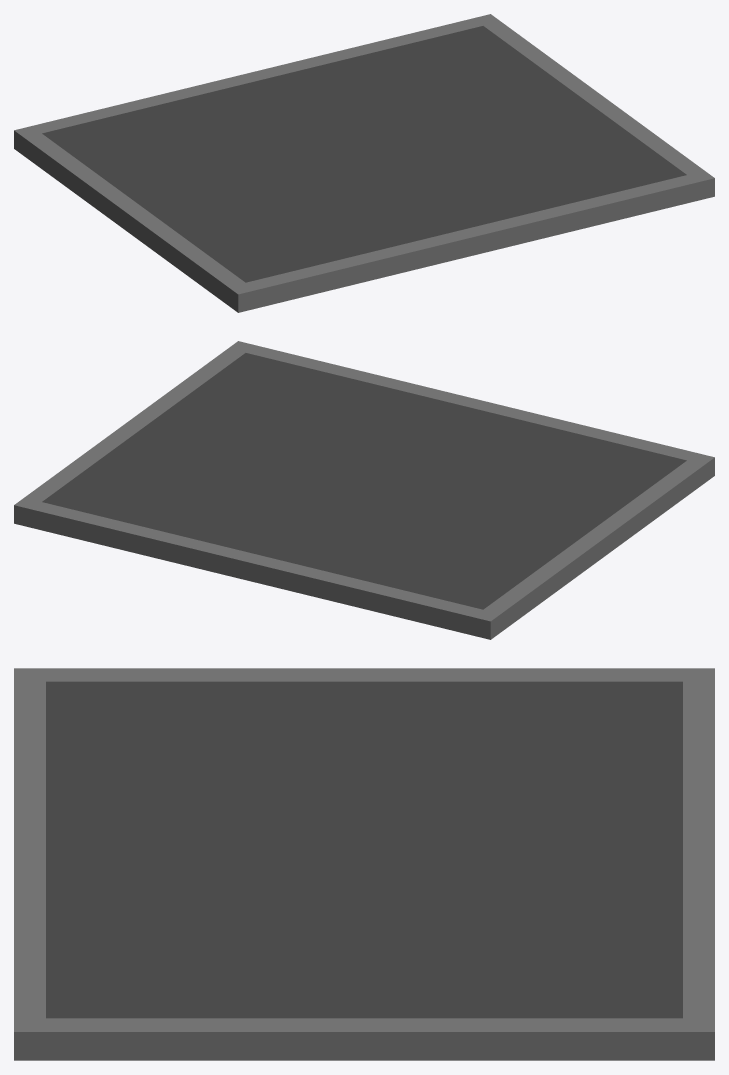
Rendered from asphalt3.obj.
3 views of the same model, one above another, from view 1: azimuth 30°, elevation 25°; view 2: azimuth 150°, elevation 25°; view 3: azimuth 270°, elevation 25° (orthographic). The views are drawn at different scales.
Size of the model in its own units: 2.7 by 0.1 by 2.2.
Materials: 1 (1 with a texture image).
